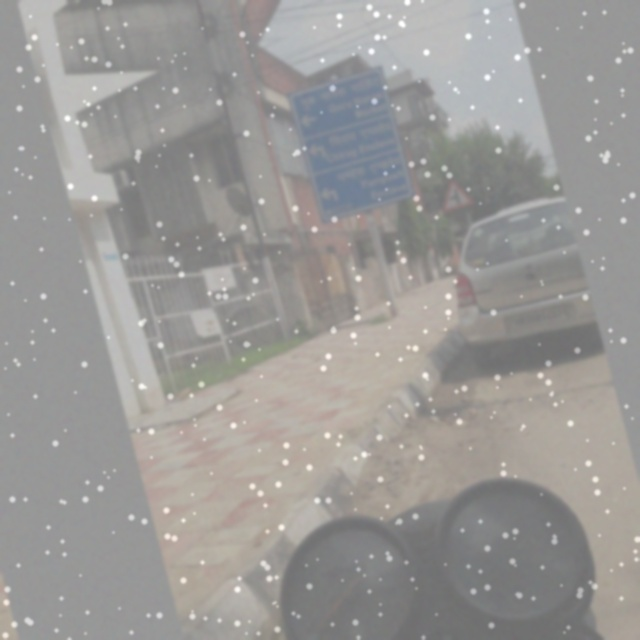Side_Road_Left: (430, 167, 478, 217)
